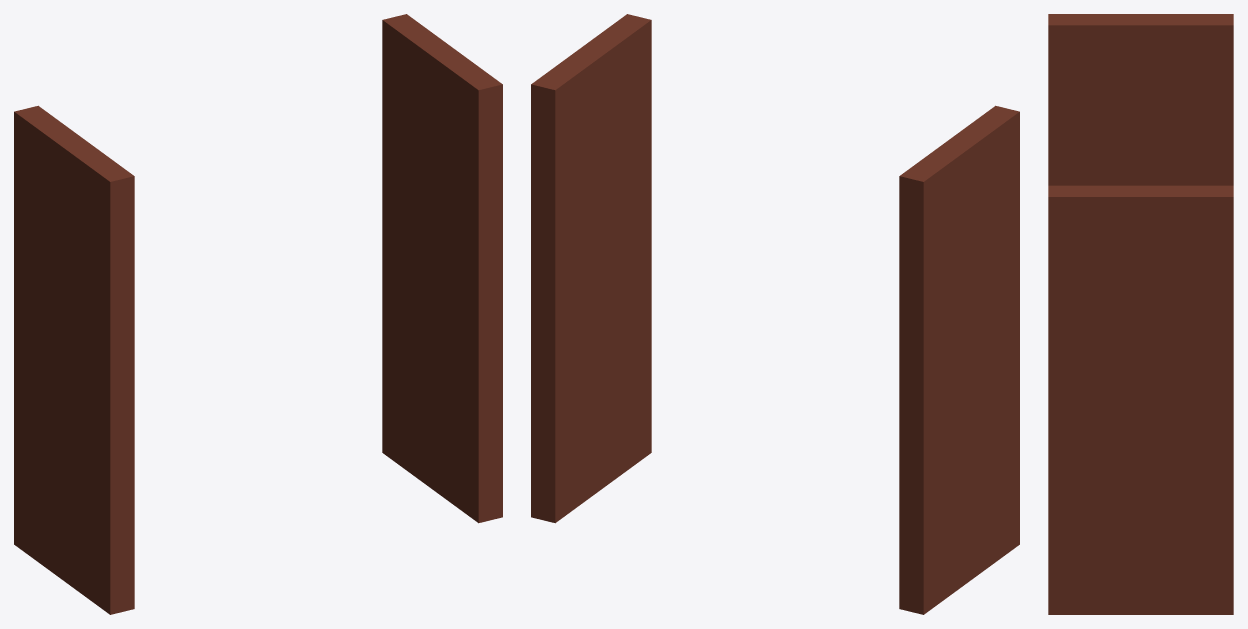
File: libdoors.fbx
3 views of the same model, side by side, from view 1: azimuth 30°, elevation 25°; view 2: azimuth 150°, elevation 25°; view 3: azimuth 270°, elevation 25° (orthographic). The views are drawn at different scales.
Parts seen in each view (by area): view 1: LeftDoor.003; view 2: LeftDoor.003; view 3: LeftDoor.003.
Boxes of the visible parts, left/top/right/bottom form: LeftDoor.003: left=14, top=14, right=502, bottom=614; LeftDoor.003: left=531, top=14, right=1019, bottom=614; LeftDoor.003: left=1048, top=14, right=1233, bottom=614.
Bounding box in the file's own units: 1013 × 1072 × 430.
